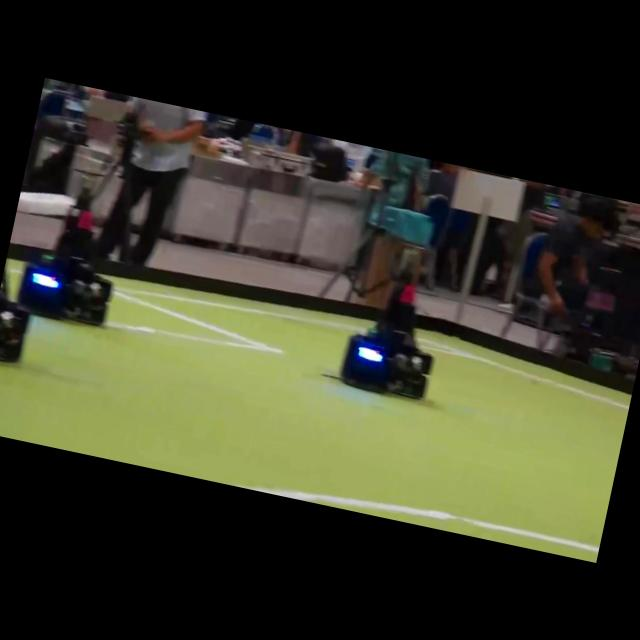robot: (17, 188, 112, 325), (340, 271, 433, 399)
